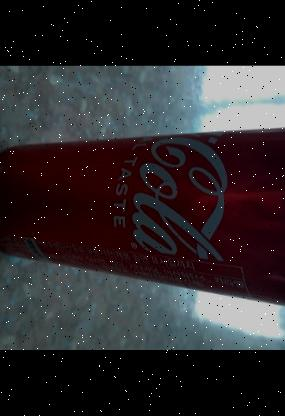Can: (0, 126, 285, 313)
